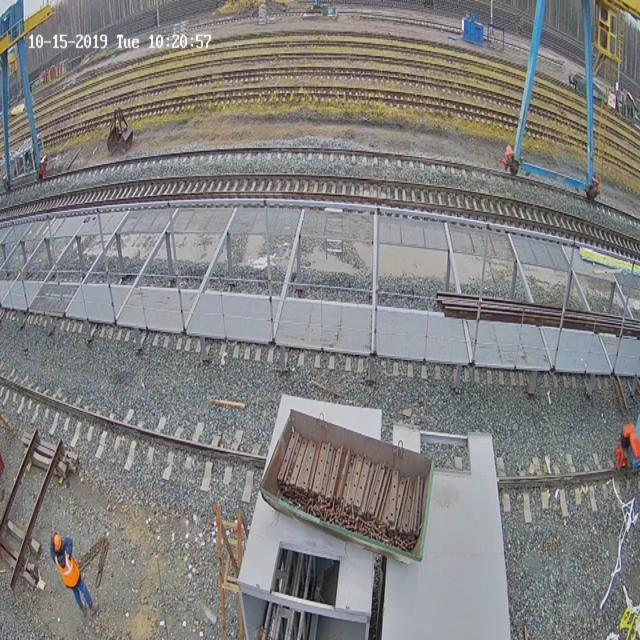Helmet: (53, 532, 62, 552)
Person: (51, 532, 98, 617)
